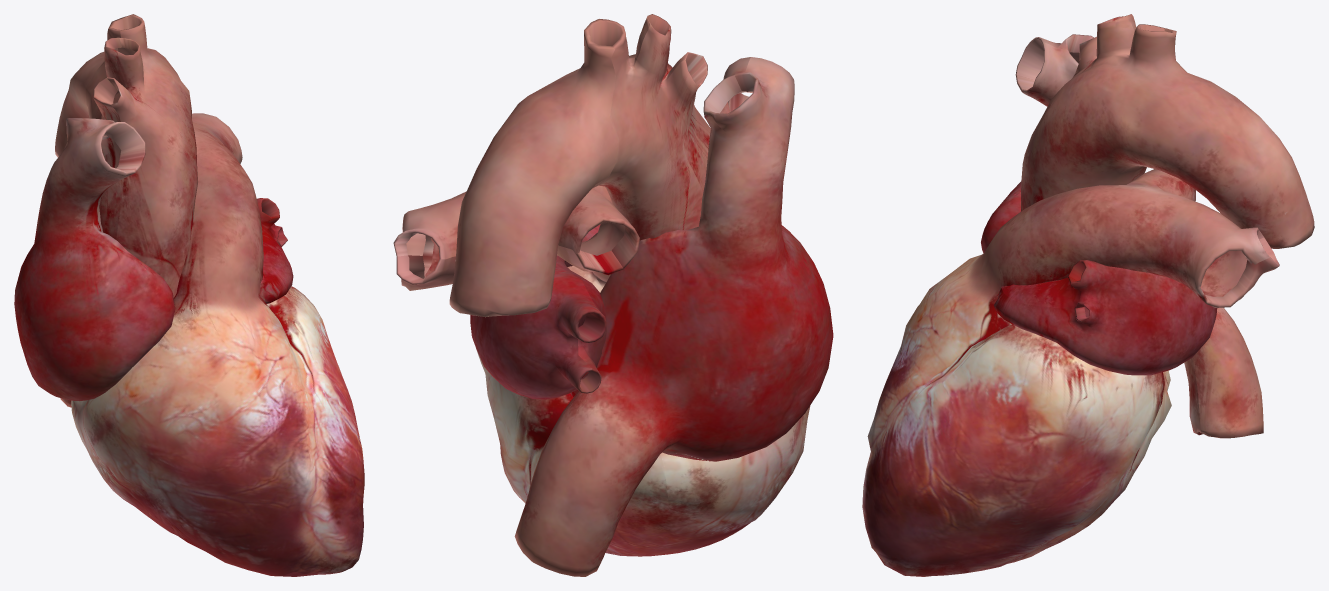
The model's file is Adam_Heart.dae.
The picture shows the model from 3 angles, left to right: view 1: azimuth 30°, elevation 25°; view 2: azimuth 150°, elevation 25°; view 3: azimuth 270°, elevation 25°; orthographic projection. The views are drawn at different scales.
Parts seen in each view (by area): view 1: 4.003; view 2: 4.003; view 3: 4.003.
Part boxes in pixels (bbox=[...]): 4.003: bbox=[14, 14, 364, 576]; 4.003: bbox=[393, 14, 833, 576]; 4.003: bbox=[862, 14, 1314, 576].
Bounding box in the file's own units: 2.74 × 3.68 × 4.57.
Materials: 1 (1 with a texture image).
